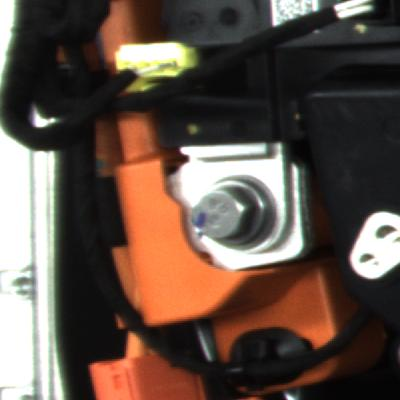nut_b: (181, 161, 286, 265)
